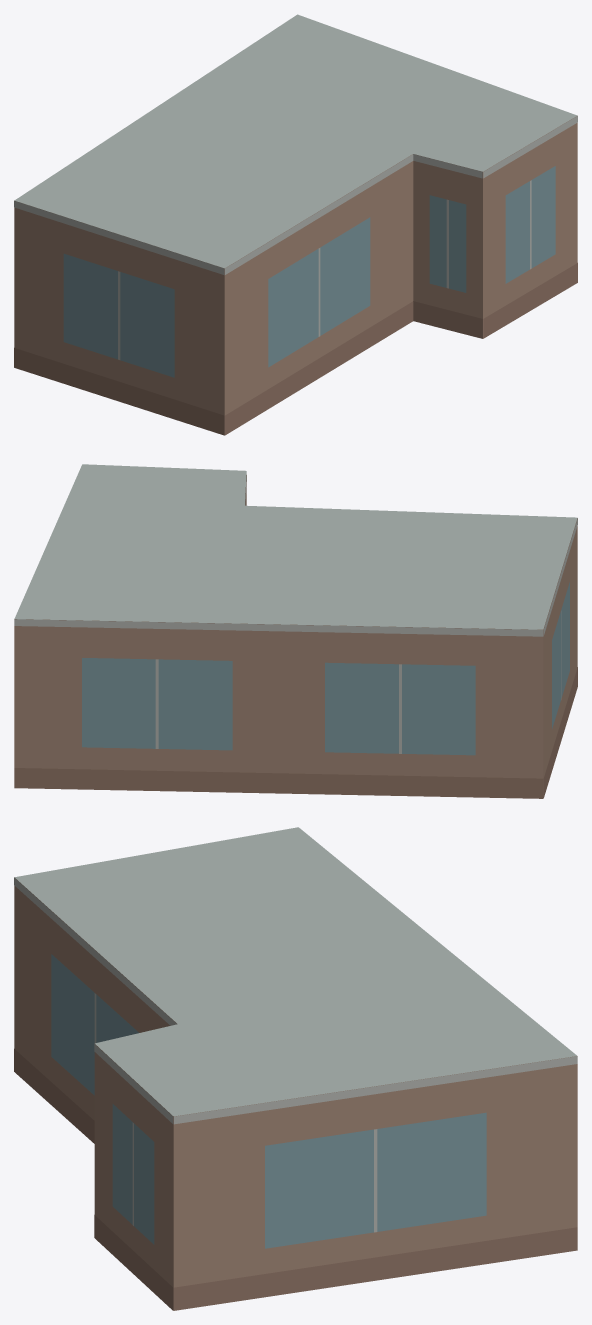
The model's file is survey-upis-32942132.glb.
3 renders of one model, top to bottom at view 1: azimuth 30°, elevation 25°; view 2: azimuth 150°, elevation 25°; view 3: azimuth 270°, elevation 25°, orthographic. The views are drawn at different scales.
Parts seen in each view (by area): view 1: survey-upis-32942132.tmp; view 2: survey-upis-32942132.tmp; view 3: survey-upis-32942132.tmp.
Boxes of the visible parts, box(x1,y1,x2,y2) form: survey-upis-32942132.tmp: box(14, 14, 577, 435); survey-upis-32942132.tmp: box(14, 464, 577, 798); survey-upis-32942132.tmp: box(14, 827, 577, 1310).
Bounding box in the file's own units: 9.75 × 3.05 × 8.02.
